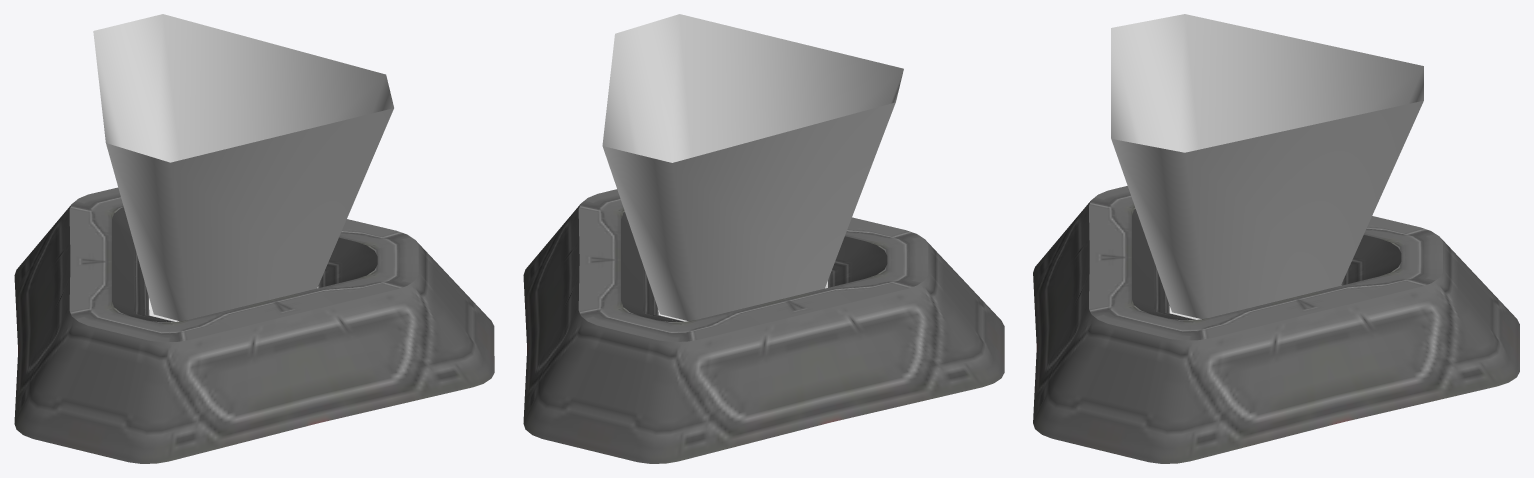
File: etagere.glb
3 renders of one model, left to right at view 1: azimuth 30°, elevation 25°; view 2: azimuth 150°, elevation 25°; view 3: azimuth 270°, elevation 25°, orthographic.
Parts seen in each view (by area): view 1: Prop_ItemHolder; view 2: Prop_ItemHolder; view 3: Prop_ItemHolder.
Boxes of the visible parts, box(x1,y1,x2,y2) form: Prop_ItemHolder: box(14, 14, 494, 463); Prop_ItemHolder: box(523, 14, 1004, 463); Prop_ItemHolder: box(1033, 14, 1519, 463).
Size of the model in its own units: 0.8187 by 0.4358 by 0.7267.
Materials: 3 (2 with a texture image).
